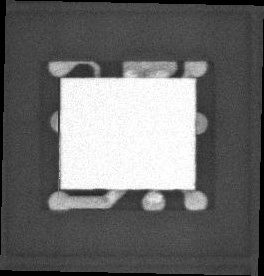DIE_BROKEN: (57, 101, 61, 119)
